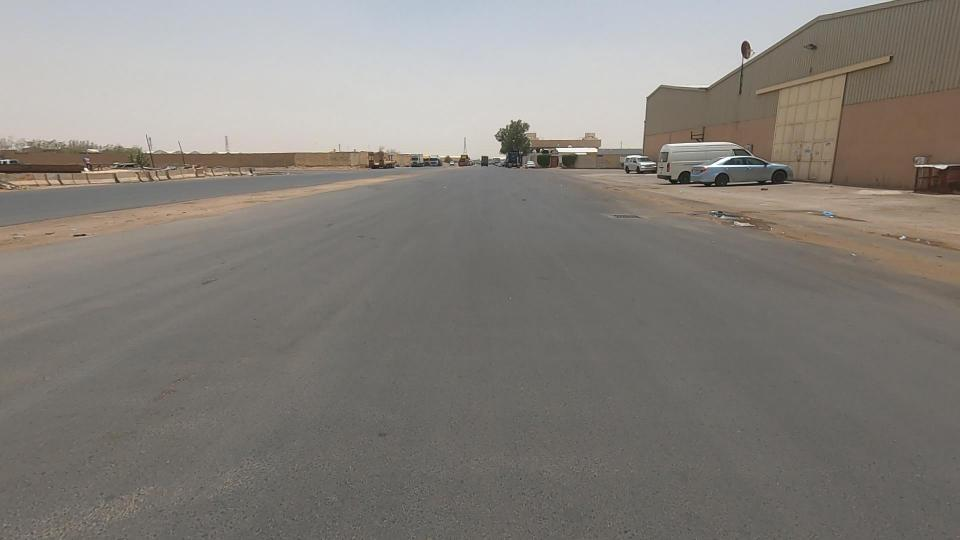CLUTTER_SIDEWALK: (0, 184, 269, 252), (154, 164, 362, 225), (286, 157, 406, 202)
GARBAGE: (686, 177, 781, 267), (782, 175, 862, 245)
